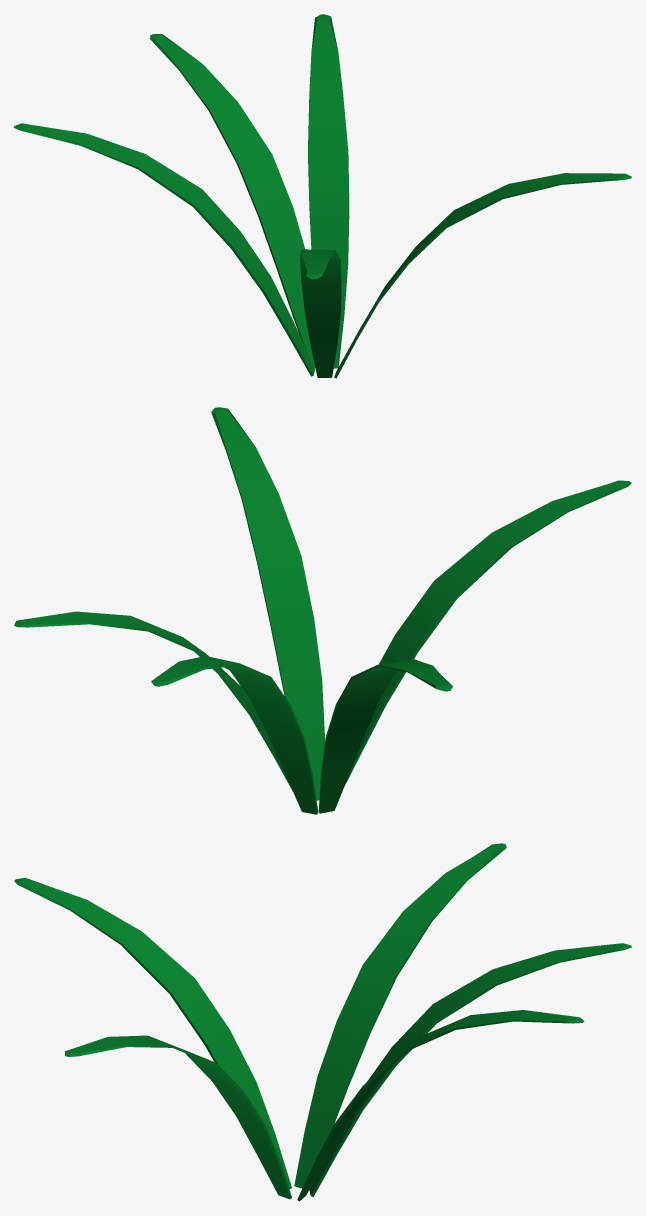
File: kusa10091205.fbx
3 renders of one model, top to bottom at view 1: azimuth 30°, elevation 25°; view 2: azimuth 150°, elevation 25°; view 3: azimuth 270°, elevation 25°, orthographic. The views are drawn at different scales.
Visible parts, largest first — view 1: pCube12; view 2: pCube12; view 3: pCube12.
Part boxes in pixels (<box>): pCube12: <box>14,14,631,378</box>; pCube12: <box>14,407,631,814</box>; pCube12: <box>14,843,631,1201</box>.
Size of the model in its own units: 1.29 by 0.6837 by 1.58.
